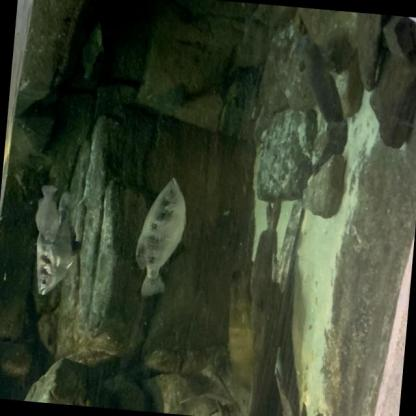fish: (130, 173, 191, 303), (31, 187, 82, 300), (33, 182, 64, 246)
